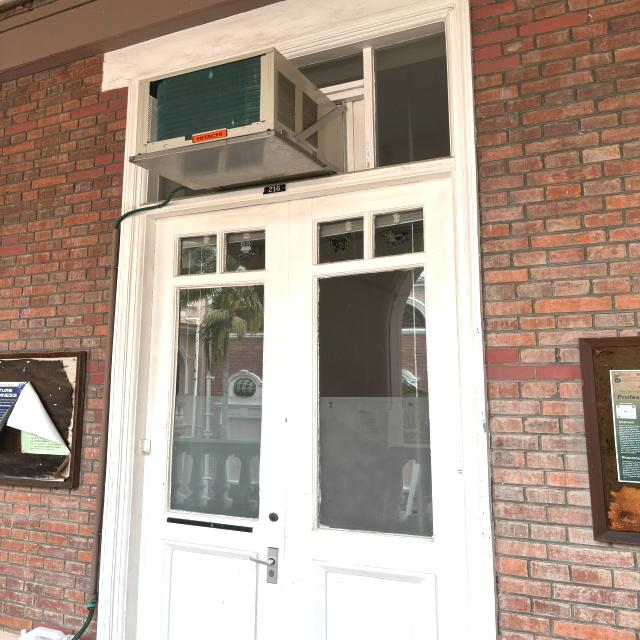MB216_roomNumber: (262, 182, 288, 198)
